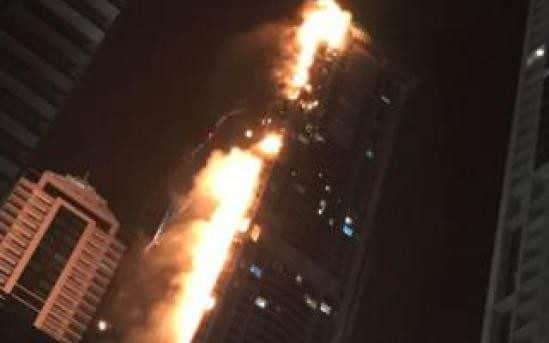Fire: (199, 147, 280, 204), (158, 225, 237, 271), (295, 8, 354, 48)
